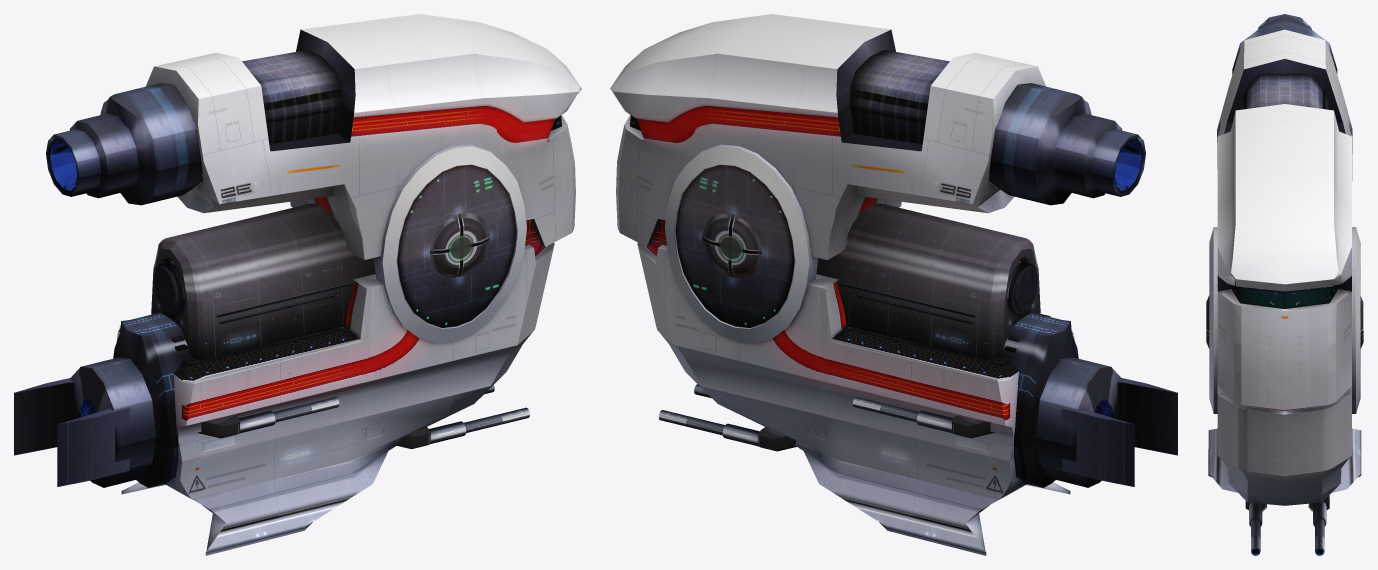
File: Phalanx.FBX
3 views of the same model, side by side, from view 1: azimuth 30°, elevation 25°; view 2: azimuth 150°, elevation 25°; view 3: azimuth 270°, elevation 25° (orthographic). The views are drawn at different scales.
Visible parts, largest first — view 1: Phalanx; view 2: Phalanx; view 3: Phalanx.
Part boxes in pixels (x1,y1,x2,y2): Phalanx: (14, 14, 581, 555); Phalanx: (610, 14, 1177, 555); Phalanx: (1206, 14, 1363, 555).
Size of the model in its own units: 93.59 by 76.03 by 26.43.
